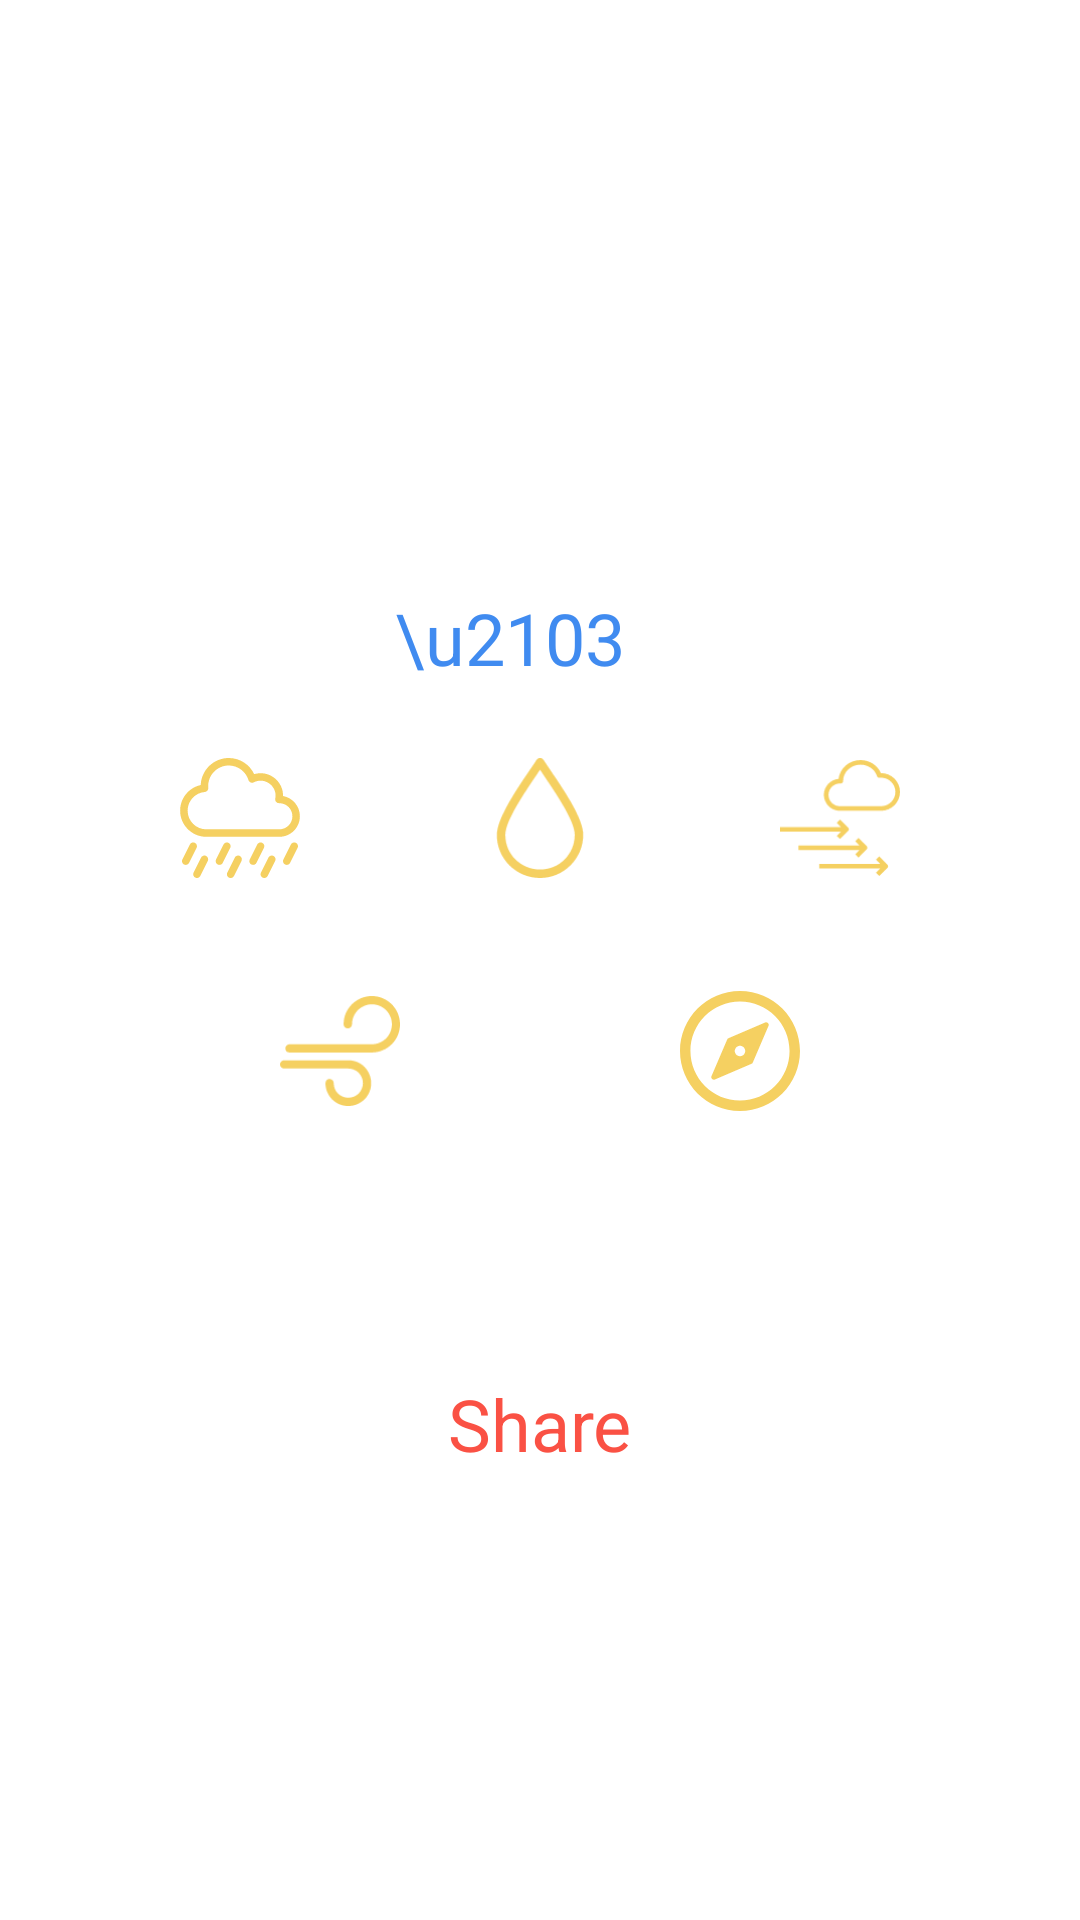

Where to tap for icons on this 1080 × 1920 app screen, as (x,y):
compass: (740,1051)
drop: (540,818)
rainy probably: (240,818)
wind: (340,1051)
